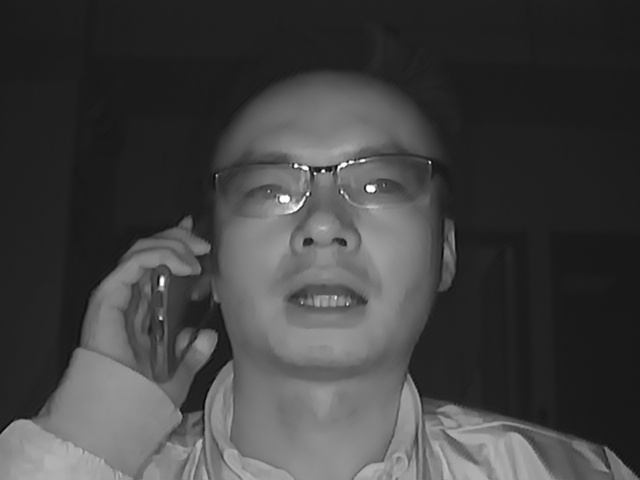hand: (83, 214, 211, 396)
